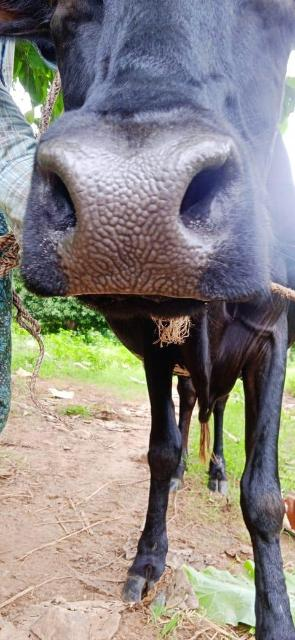Muzzle: (53, 146, 210, 298)
